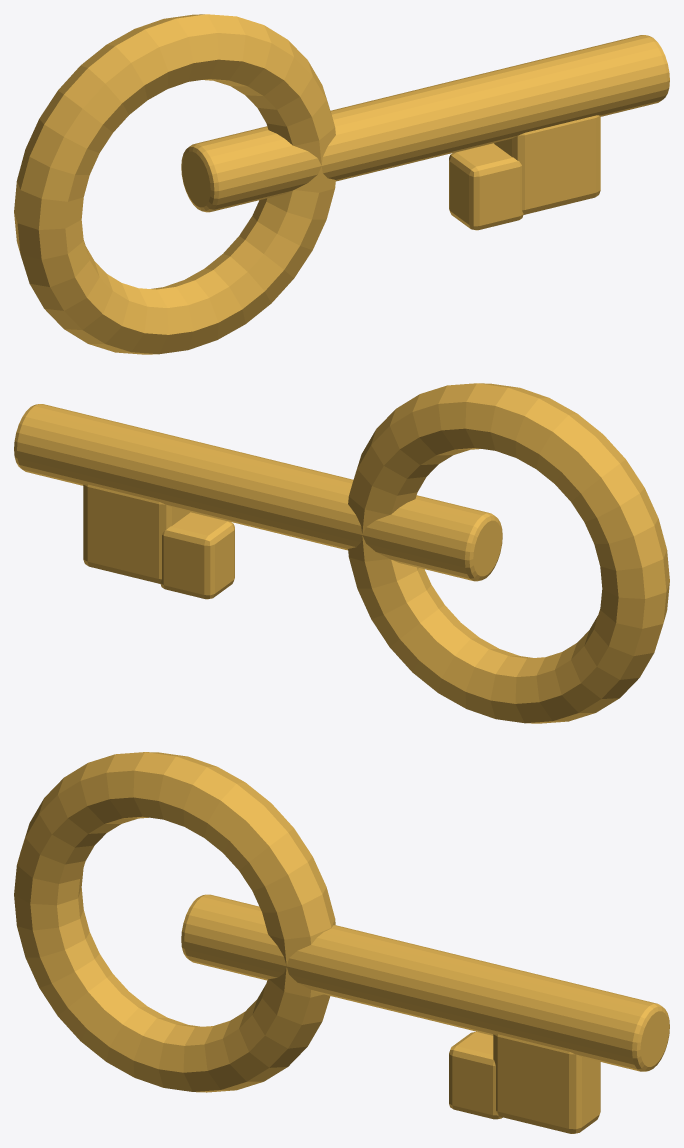
File: pickup_front_door_key.glb
The picture shows the model from 3 angles, top to bottom: view 1: azimuth 30°, elevation 25°; view 2: azimuth 150°, elevation 25°; view 3: azimuth 330°, elevation 25°; orthographic projection.
Parts seen in each view (by area): view 1: Oversized entrance key bow, Entrance key shaft, Key tooth one, Key tooth two; view 2: Oversized entrance key bow, Entrance key shaft, Key tooth one, Key tooth two; view 3: Oversized entrance key bow, Entrance key shaft, Key tooth one, Key tooth two.
Boxes of the visible parts, x1,y1,x2,y2 form: Oversized entrance key bow: [14, 14, 335, 354]; Entrance key shaft: [181, 35, 669, 212]; Key tooth one: [494, 115, 600, 214]; Key tooth two: [449, 143, 523, 230]; Oversized entrance key bow: [348, 383, 669, 723]; Entrance key shaft: [14, 404, 502, 581]; Key tooth one: [83, 484, 189, 583]; Key tooth two: [160, 512, 234, 599]; Oversized entrance key bow: [14, 752, 335, 1092]; Entrance key shaft: [181, 894, 669, 1071]; Key tooth one: [493, 1034, 600, 1133]; Key tooth two: [449, 1031, 502, 1119].
Size of the model in its own units: 0.945 by 0.47 by 0.09.
